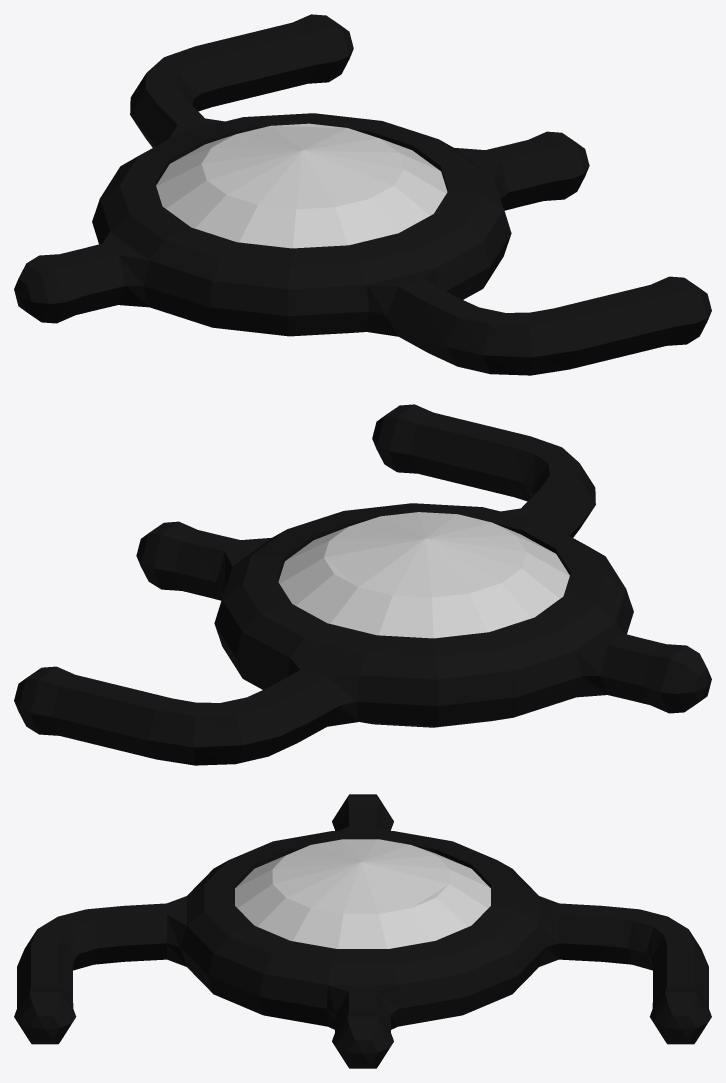
Rendered from BR_Unown-Shiny10.obj.
3 renders of one model, top to bottom at view 1: azimuth 30°, elevation 25°; view 2: azimuth 150°, elevation 25°; view 3: azimuth 270°, elevation 25°, orthographic. The views are drawn at different scales.
Parts seen in each view (by area): view 1: unknown_e; view 2: unknown_e; view 3: unknown_e.
Part boxes in pixels (<box>): unknown_e: <box>14,14,711,375</box>; unknown_e: <box>14,404,711,765</box>; unknown_e: <box>14,794,711,1068</box>.
Bounding box in the file's own units: 3.63 × 0.8603 × 4.36.
